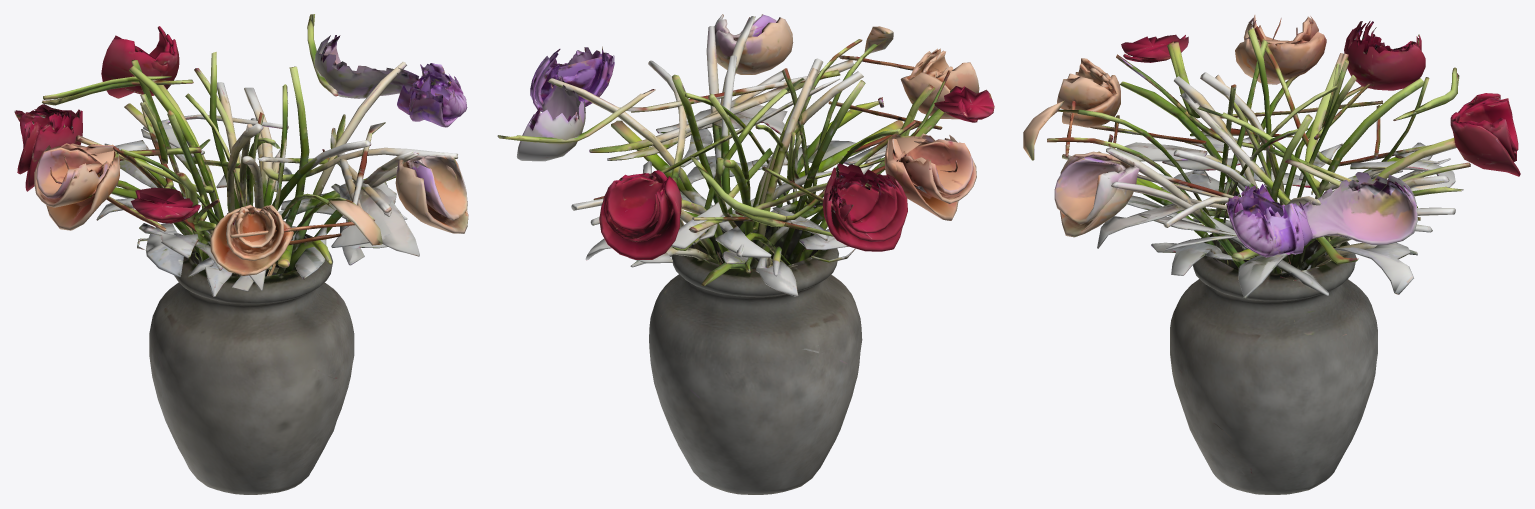
File: Meshy_AI_Un_bouquet_de_fleur_p_1227153211_texture.fbx
3 views of the same model, side by side, from view 1: azimuth 30°, elevation 25°; view 2: azimuth 150°, elevation 25°; view 3: azimuth 270°, elevation 25° (orthographic). The views are drawn at different scales.
Parts seen in each view (by area): view 1: Mesh_0; view 2: Mesh_0; view 3: Mesh_0.
Part boxes in pixels (bbox=[...]): Mesh_0: bbox=[14, 14, 468, 494]; Mesh_0: bbox=[497, 14, 994, 494]; Mesh_0: bbox=[1023, 15, 1520, 494].
Size of the model in its own units: 152 by 137 by 155.
Materials: 1 (1 with a texture image).
